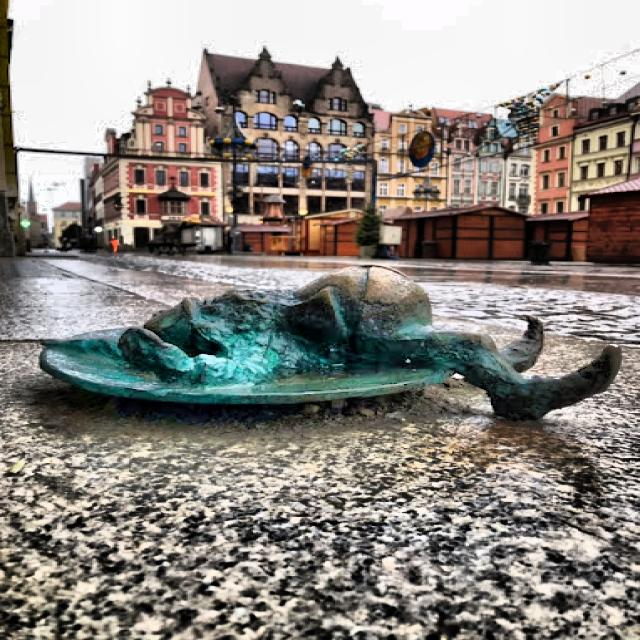Obiezysmak: (37, 266, 622, 422)
